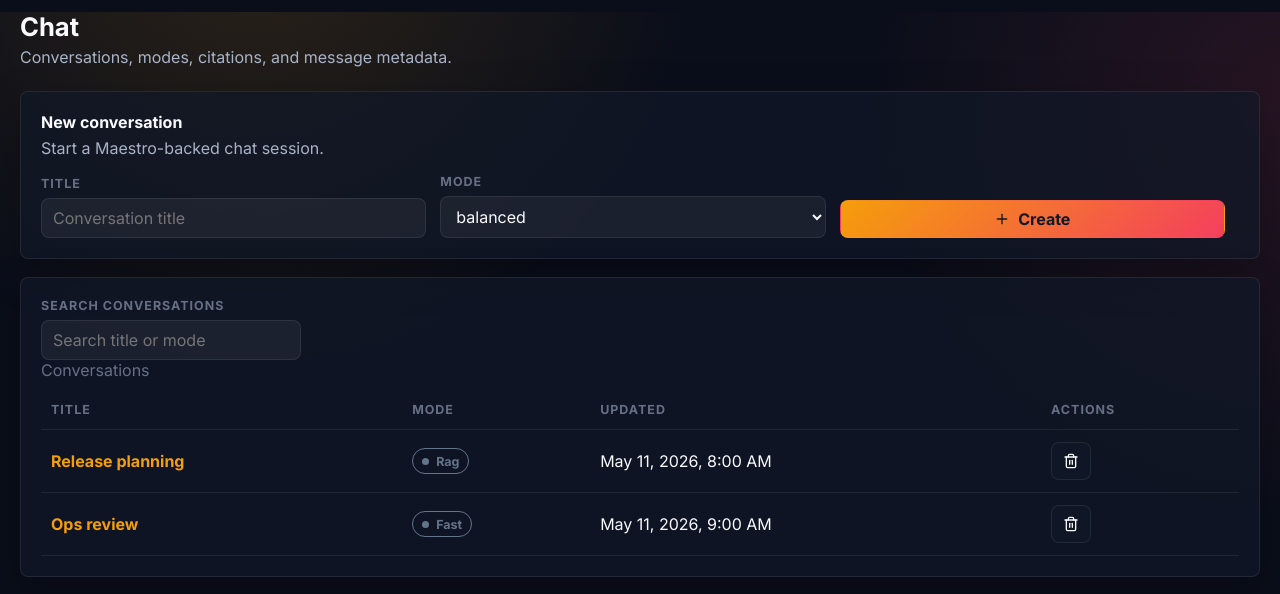
Test: ChatPage › offers all chat modes and filters conversations by title or mode
Expected: the link "Release planning" is shown, [51,451,184,471]
Expected: the link "Ops review" is shown, [51,514,138,534]
Type "fast" into the field labelled "Search conversations" at (171, 340), box [41,320,301,360]
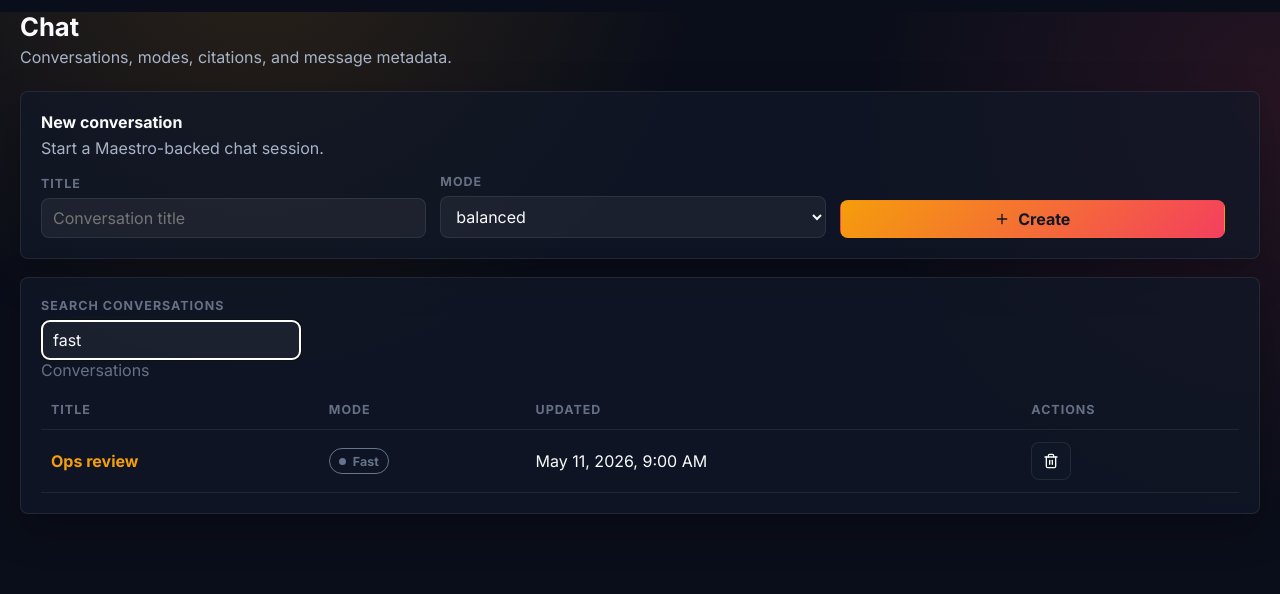
Expected: the link "Ops review" is shown, [51,451,138,471]
Expected: the link "Release planning" is gone
